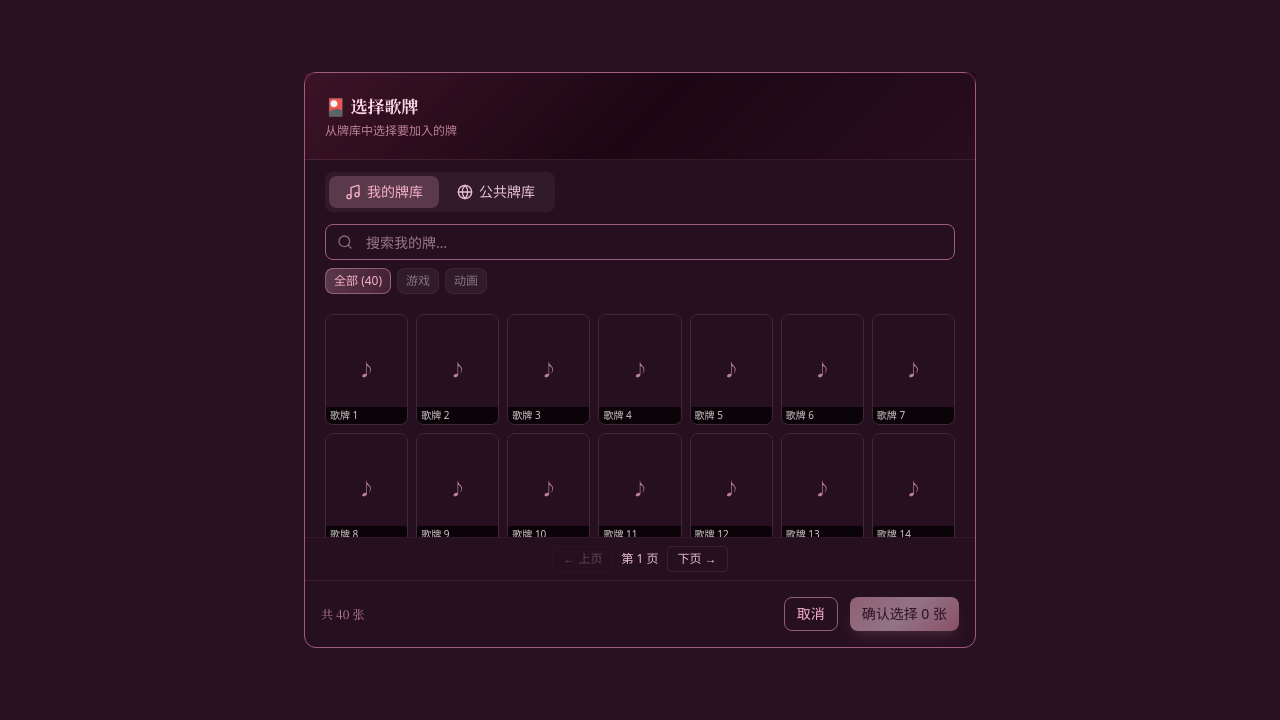
Test: 加入牌组时的牌库分页 › 标签筛选查询整个牌库并保留已选歌牌
Expected: the text "歌牌 1" is shown, [330, 408, 358, 422]
Click the element titled "歌牌 2" at (458, 369), box [416, 314, 499, 425]
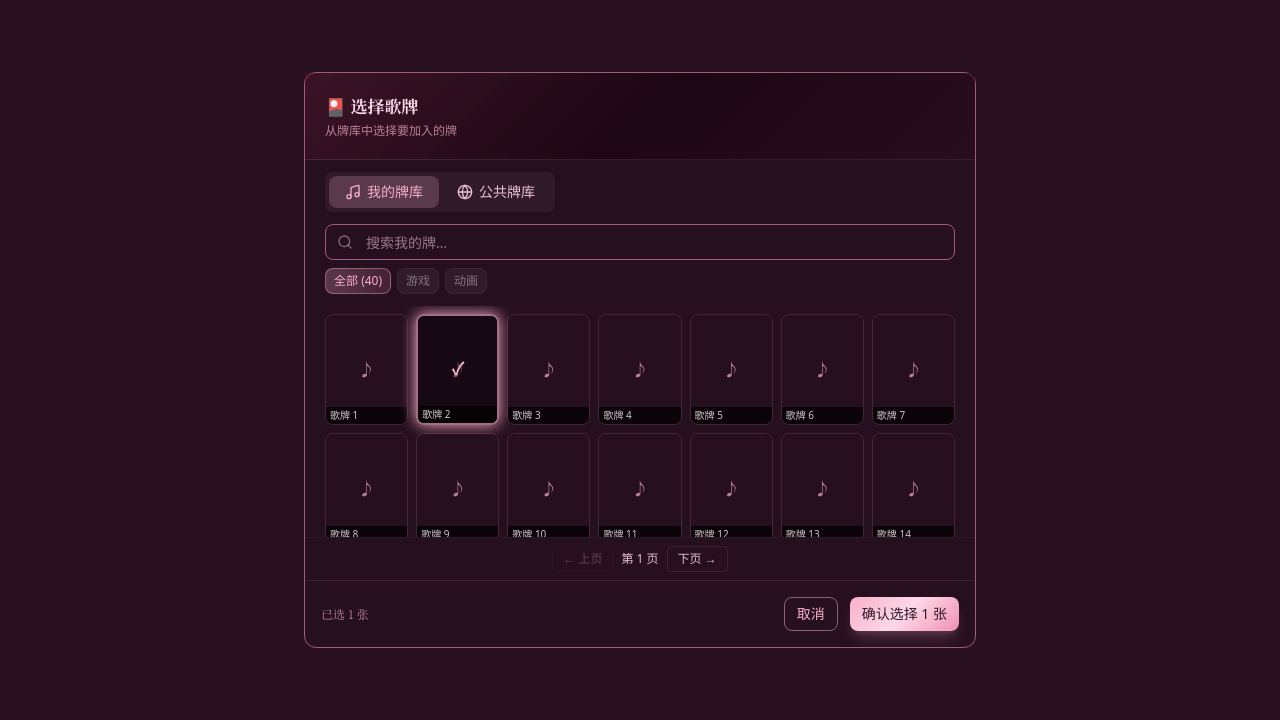
Click the button "下页 →" at (697, 559), box [667, 546, 728, 572]
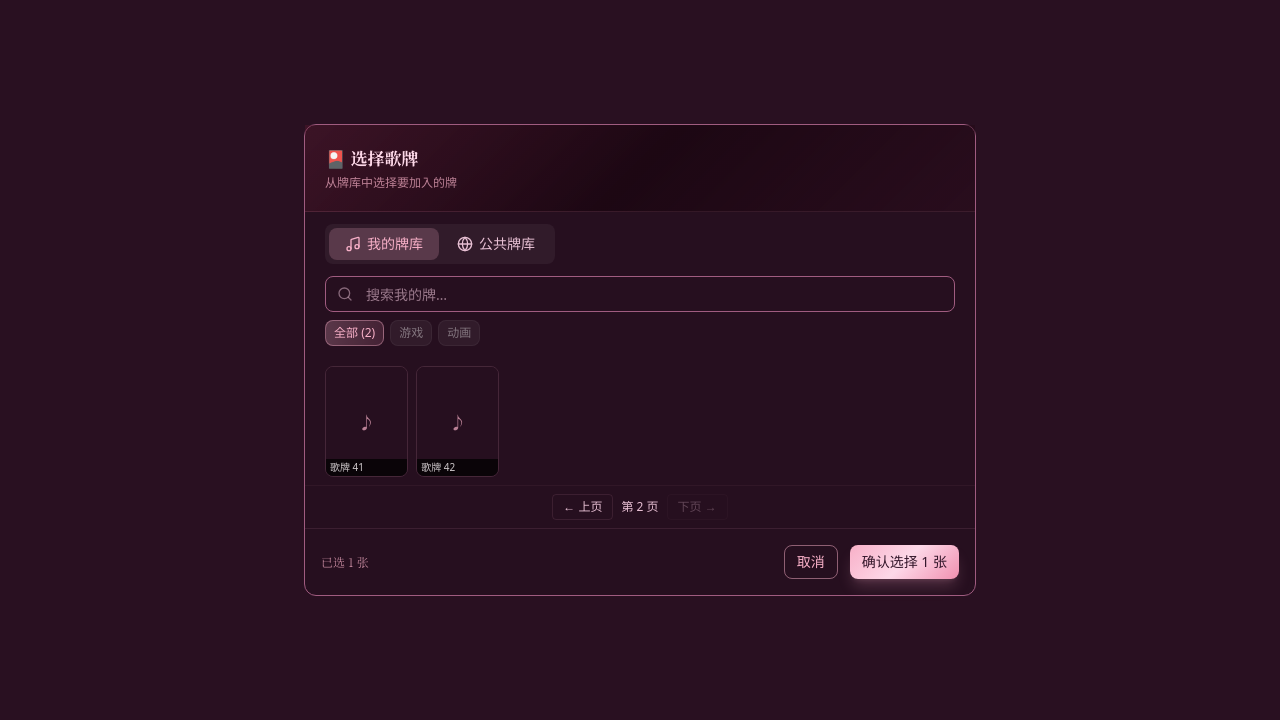
Expected: the text "歌牌 41" is shown, [330, 460, 364, 474]
Click the tab "动画" at (459, 333), box [438, 320, 480, 346]
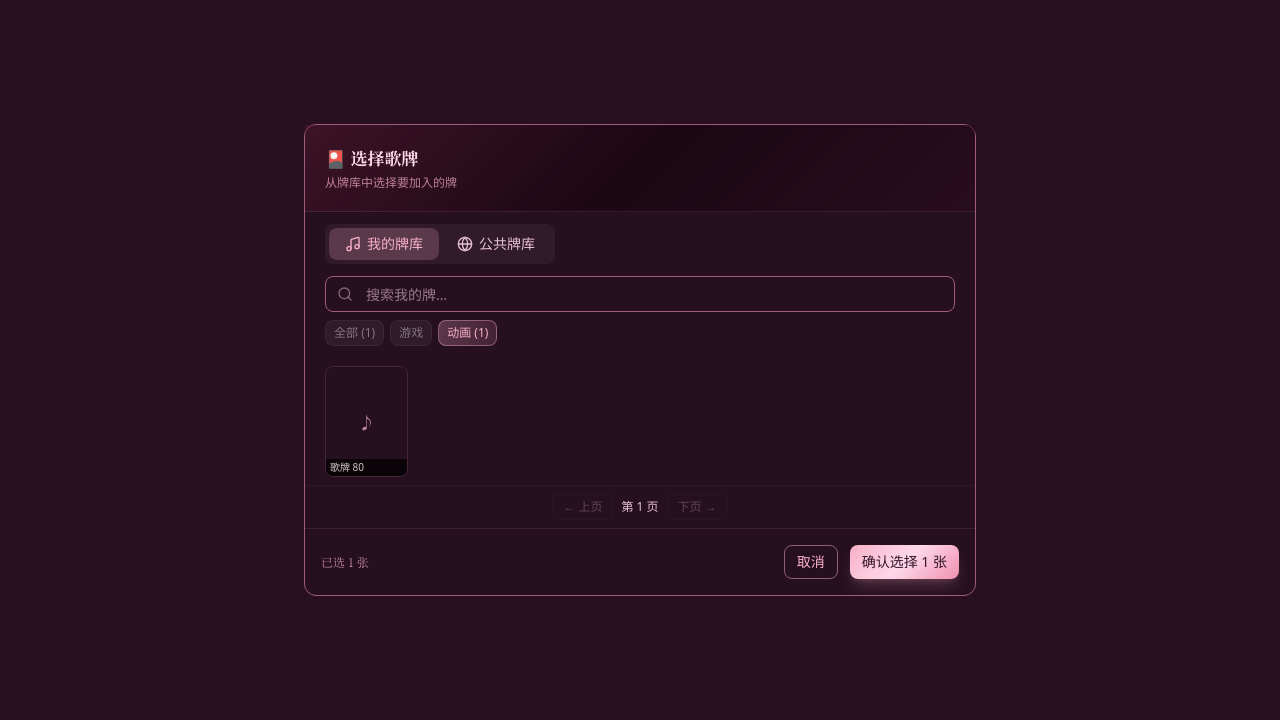
Expected: the button "确认选择 1 张" is shown, [850, 545, 959, 579]
Expected: the text "歌牌 80" is shown, [330, 460, 364, 474]
